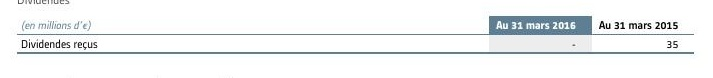table: (0, 0, 713, 78)
